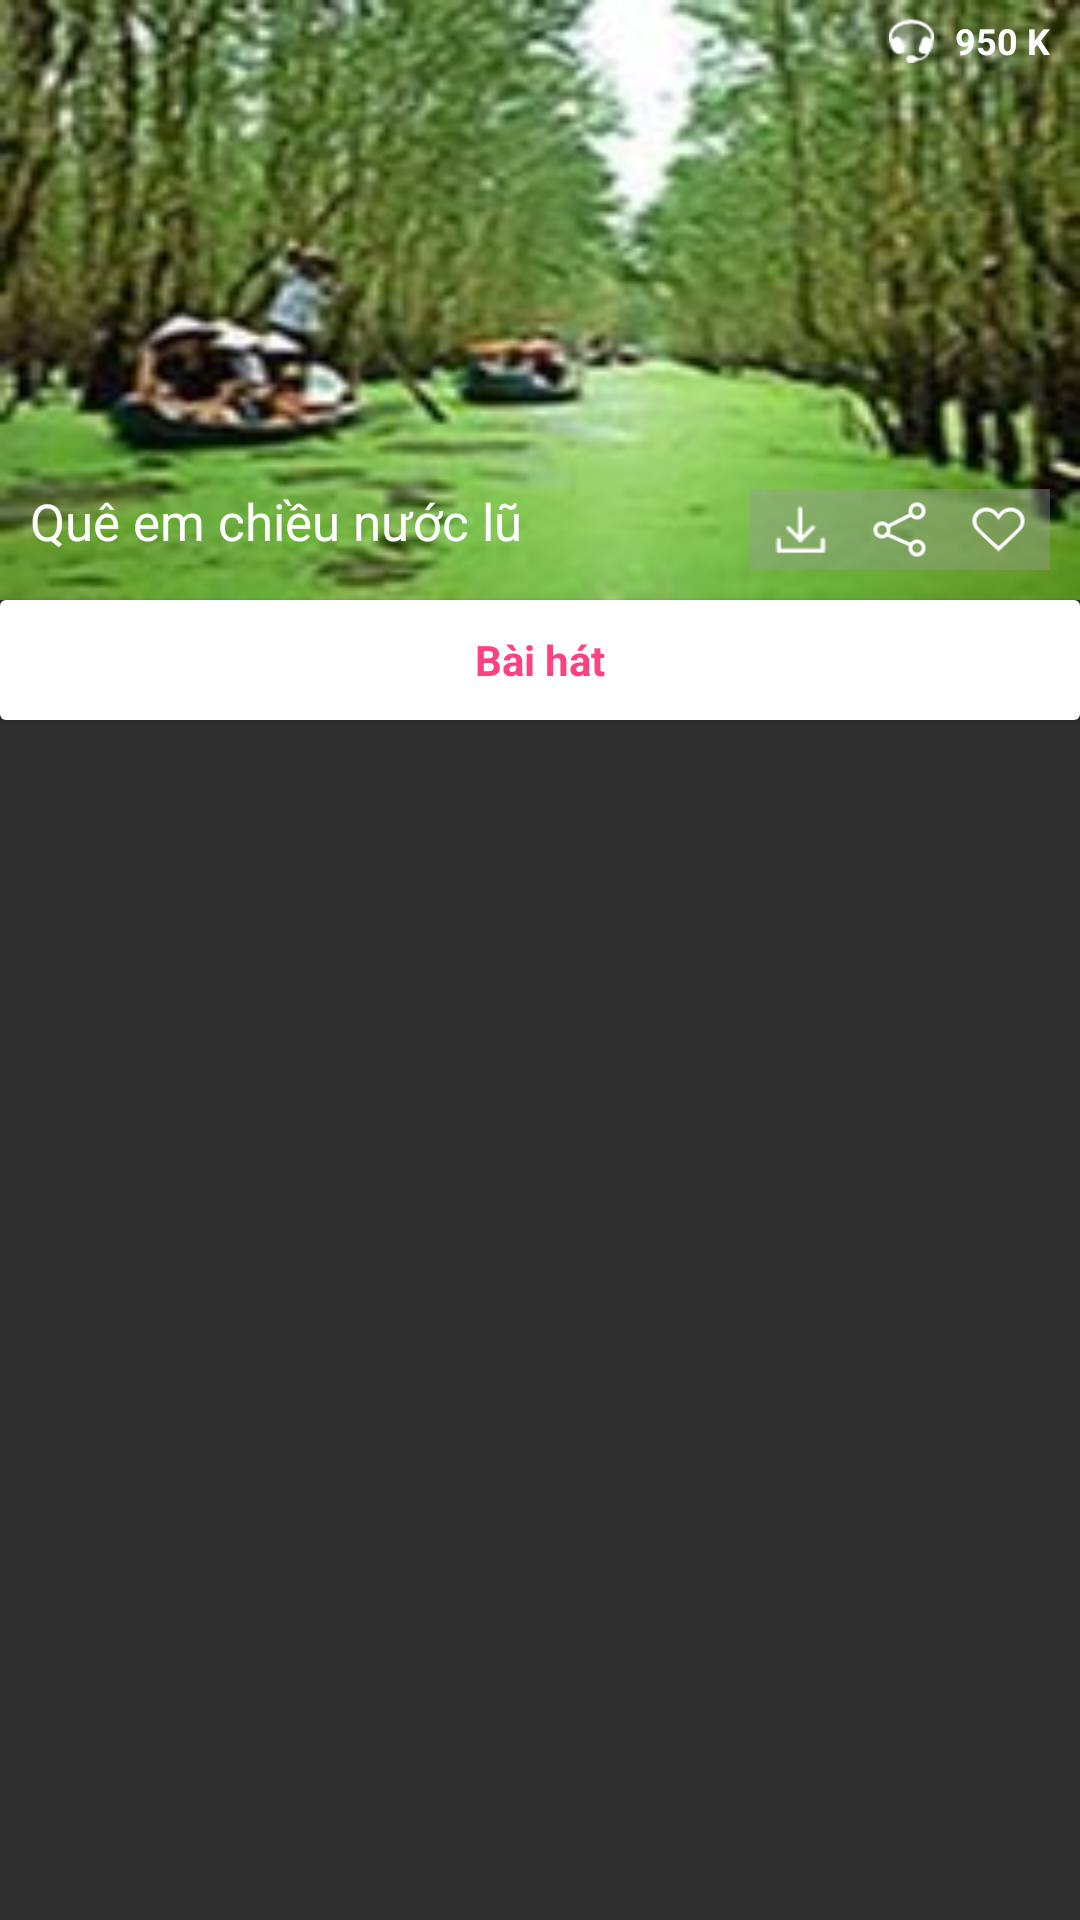

Icon click points for this 1080w x 1920h phone screenshot, format (x=x, y=y):
download: (x=800, y=529)
headset: (x=911, y=40)
like: (x=998, y=529)
video share: (x=899, y=529)
